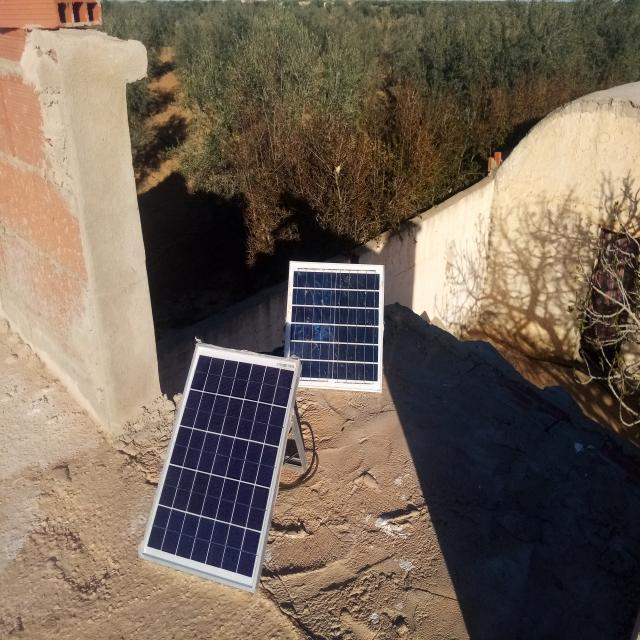Normal Solar Panel: (142, 344, 299, 591)
